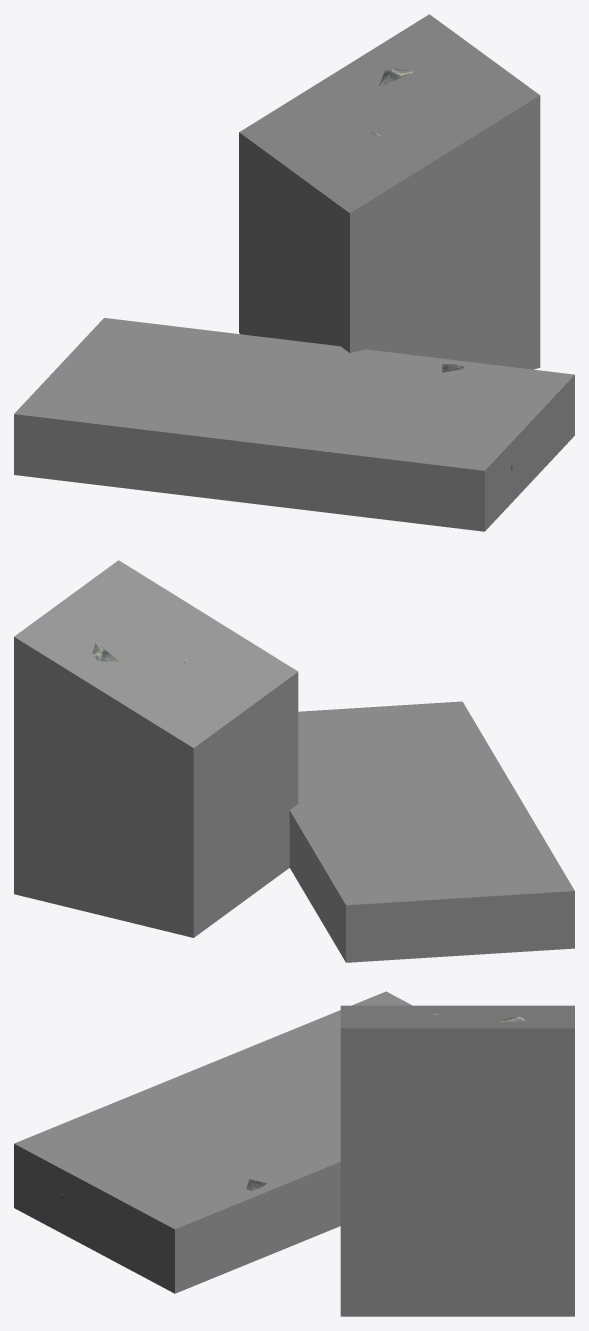
Rendered from Scene_Object_ShiDun_2.FBX.
3 renders of one model, top to bottom at view 1: azimuth 30°, elevation 25°; view 2: azimuth 150°, elevation 25°; view 3: azimuth 270°, elevation 25°, orthographic. The views are drawn at different scales.
Parts seen in each view (by area): view 1: Scene_Object_ShiDun_2_Xzm; view 2: Scene_Object_ShiDun_2_Xzm; view 3: Scene_Object_ShiDun_2_Xzm.
Part boxes in pixels (x1=…): Scene_Object_ShiDun_2_Xzm: x1=14, y1=14, x2=574, y2=531; Scene_Object_ShiDun_2_Xzm: x1=14, y1=560, x2=574, y2=962; Scene_Object_ShiDun_2_Xzm: x1=14, y1=991, x2=574, y2=1316.
Bounding box in the file's own units: 415 × 214 × 378.
